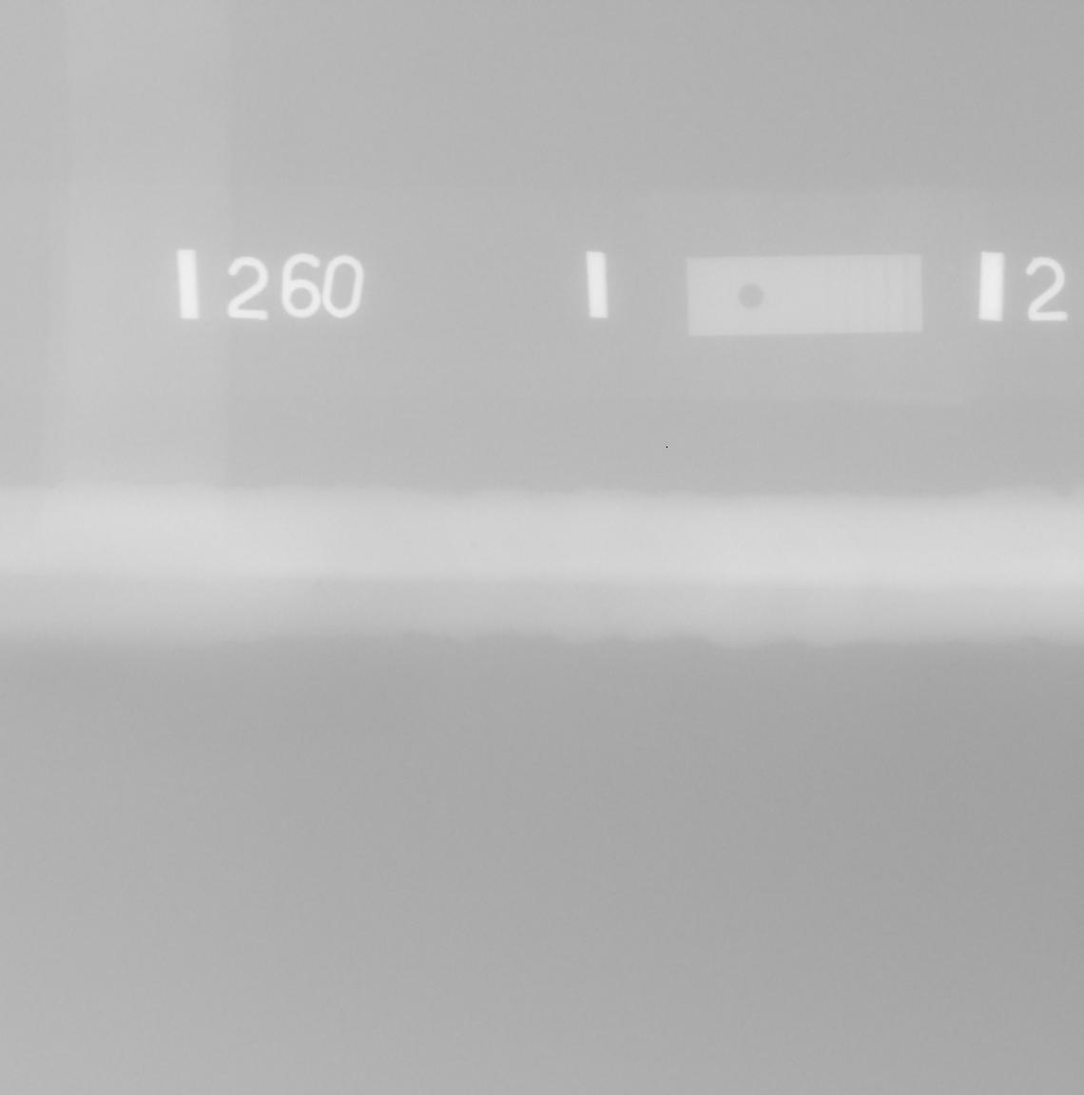Pore/Porosity: (469, 540, 478, 549), (838, 524, 844, 529), (502, 572, 508, 576)
Reference Standard 1: (686, 253, 925, 337)
